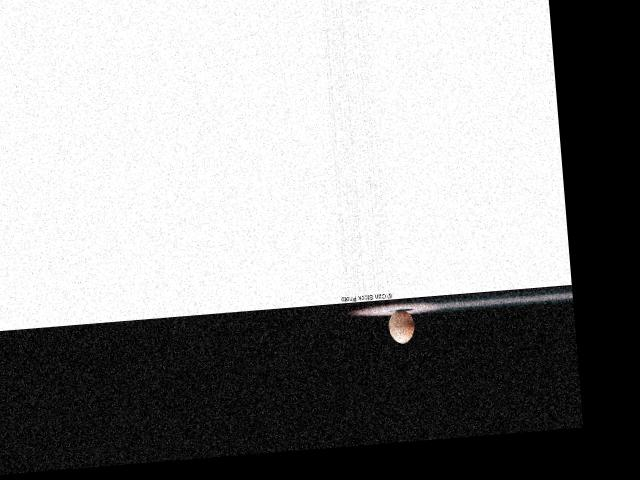egg: (387, 308, 415, 343)
